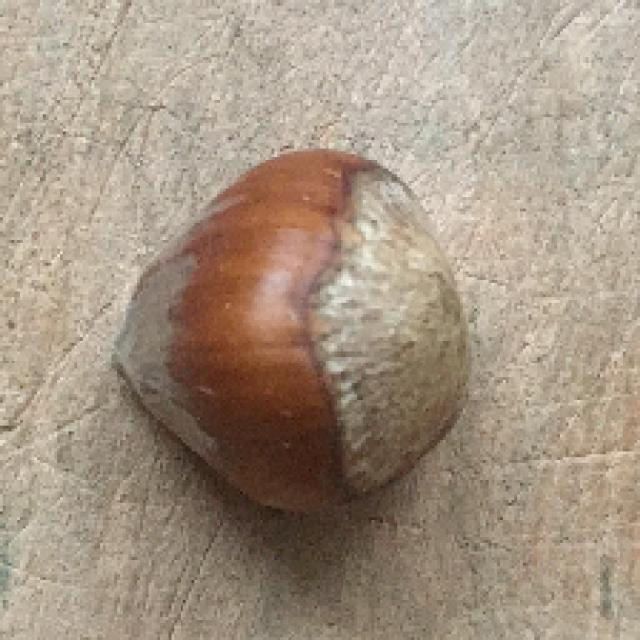qualityHazelnut: (119, 142, 474, 514)
